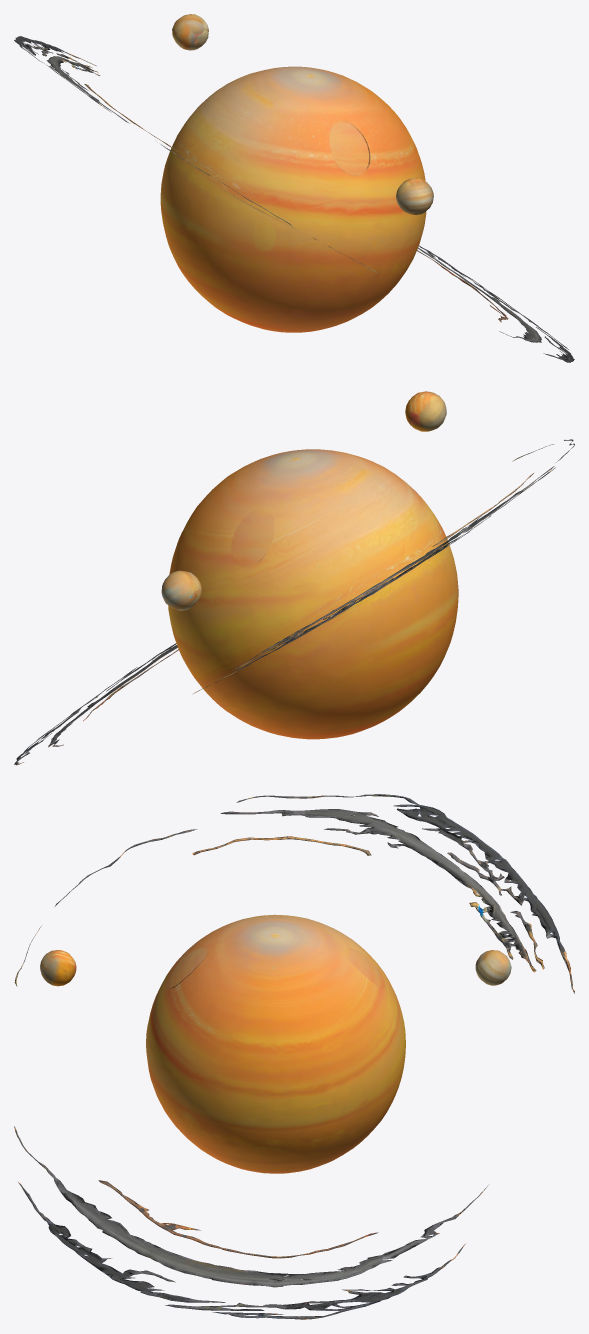
Rendered from planet.glb.
The picture shows the model from 3 angles, top to bottom: view 1: azimuth 30°, elevation 25°; view 2: azimuth 150°, elevation 25°; view 3: azimuth 270°, elevation 25°; orthographic projection. The views are drawn at different scales.
Size of the model in its own units: 1.4 by 1 by 1.61.
Materials: 1 (1 with a texture image).
